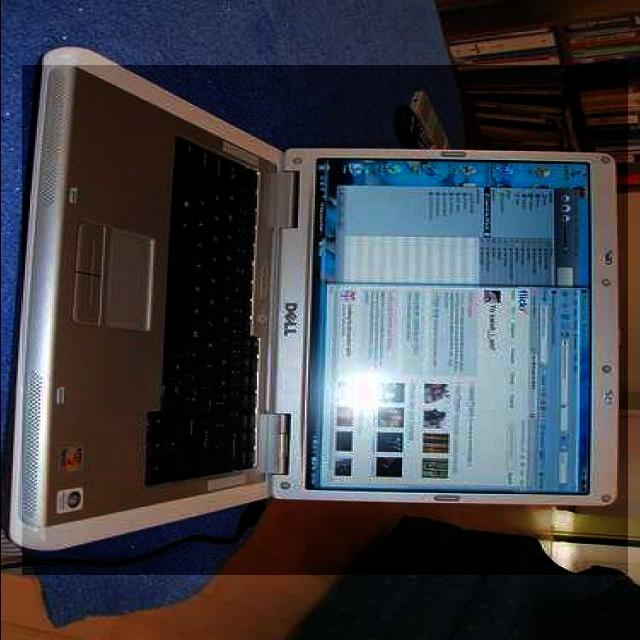-keyboard-: (22, 65, 628, 575)
